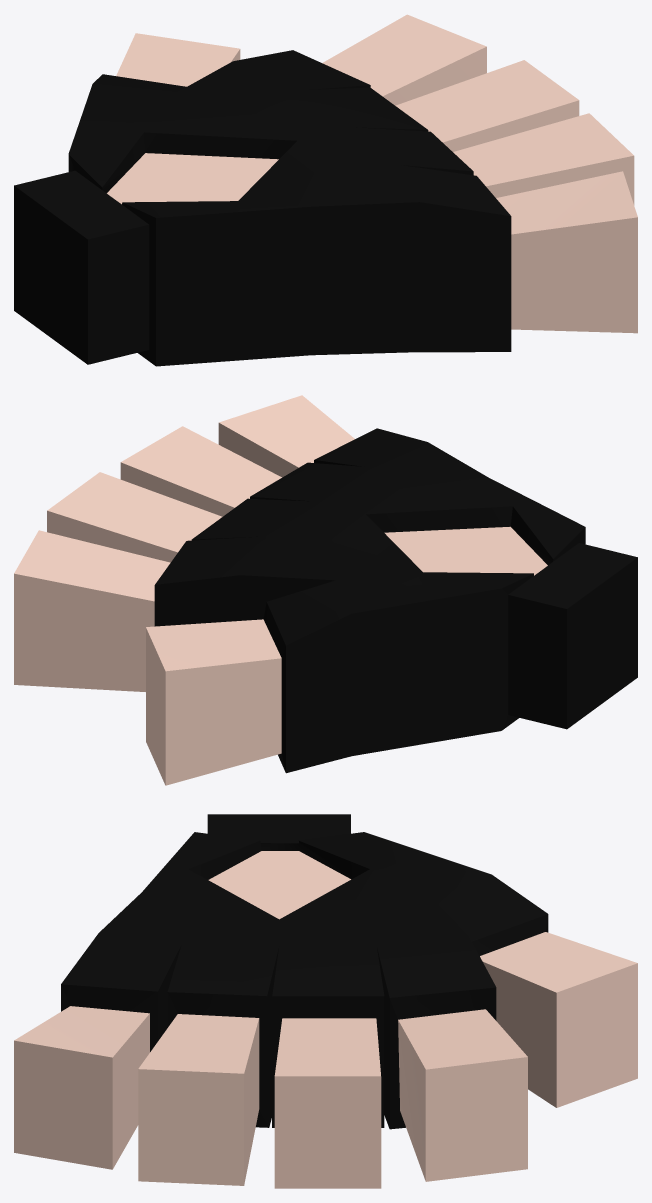
The model's file is hand.fbx.
The picture shows the model from 3 angles, top to bottom: view 1: azimuth 30°, elevation 25°; view 2: azimuth 150°, elevation 25°; view 3: azimuth 270°, elevation 25°; orthographic projection. The views are drawn at different scales.
Visible parts, largest first — view 1: hand2; view 2: hand2; view 3: hand2.
Boxes of the visible parts, left/top/right/bottom form: hand2: left=14, top=14, right=637, bottom=366; hand2: left=14, top=395, right=637, bottom=785; hand2: left=14, top=814, right=637, bottom=1188.
Bounding box in the file's own units: 0.0342 × 0.00959 × 0.0363.
3 materials, 3 textured.
